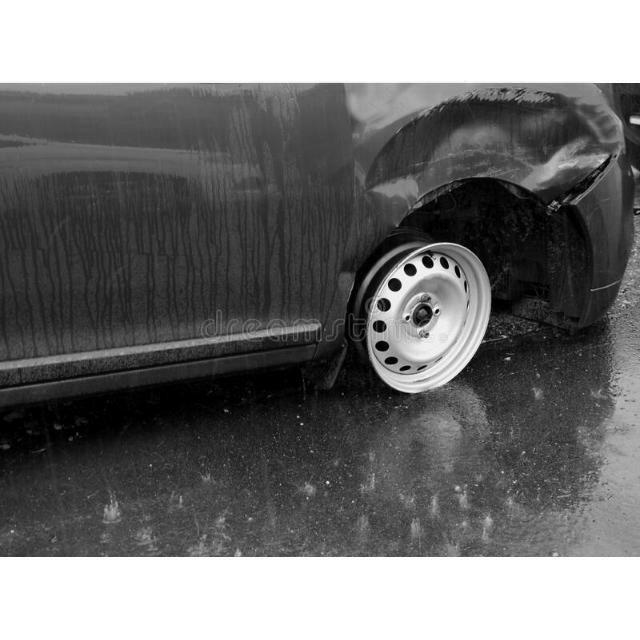fender-dent: (325, 96, 633, 270)
